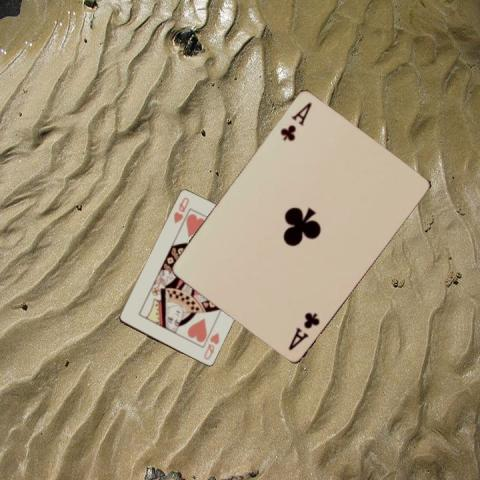Ac: (277, 98, 313, 142), (286, 309, 322, 351)
Qh: (201, 330, 221, 361), (170, 194, 190, 225)
